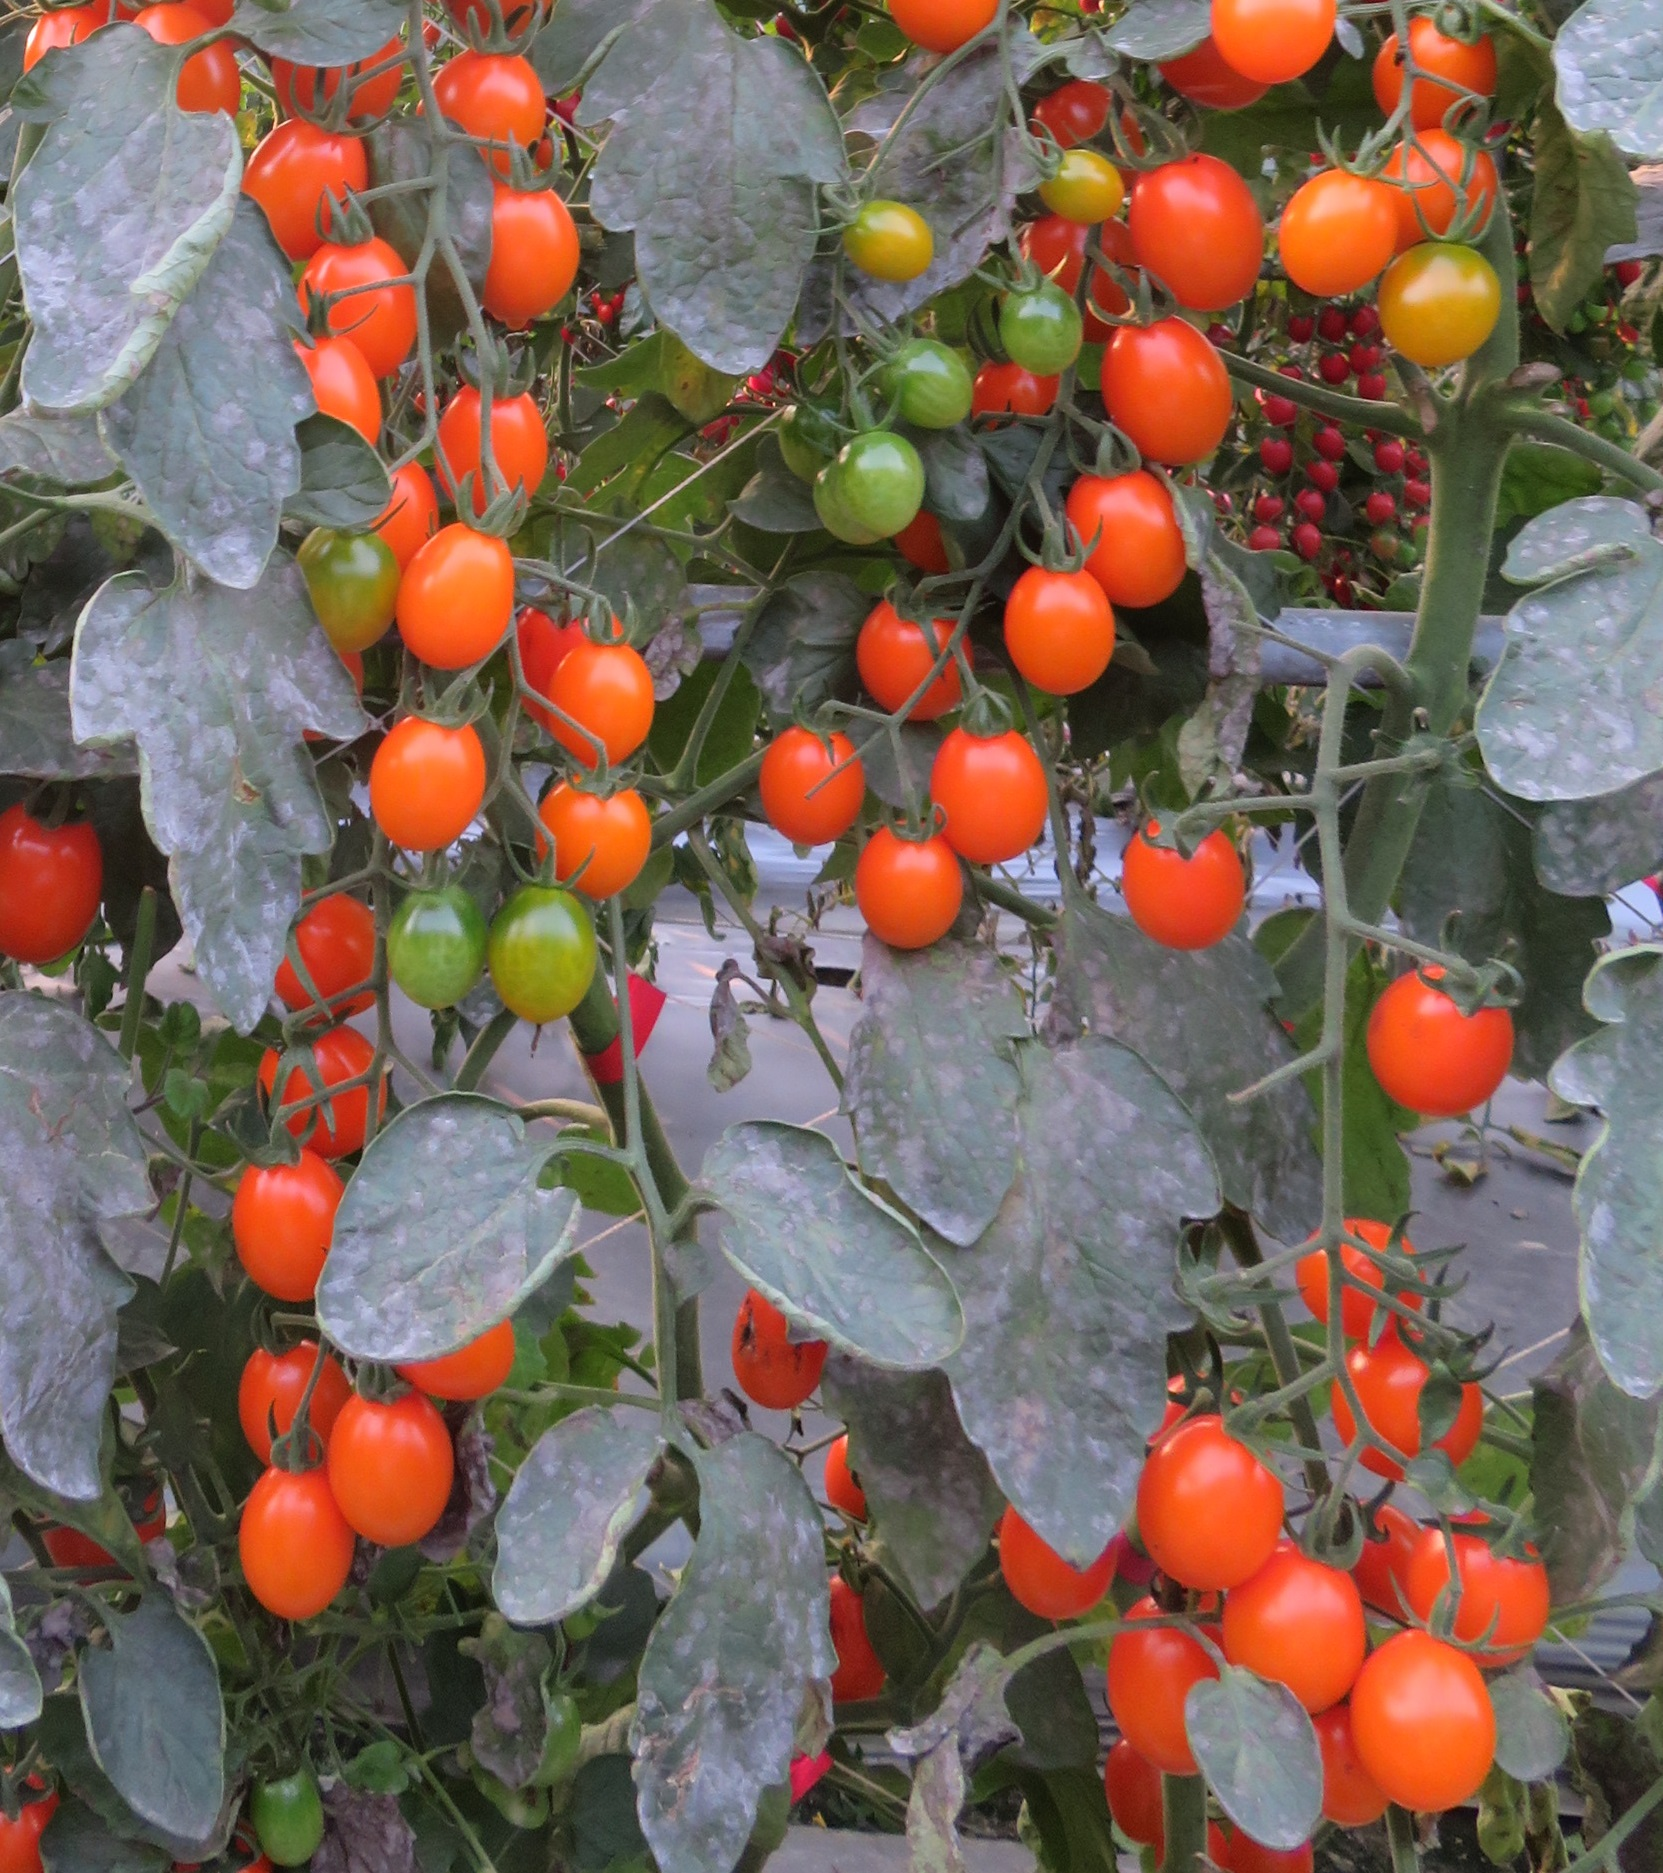green: (485, 880, 607, 1029), (299, 514, 400, 661), (393, 875, 483, 1014), (841, 425, 928, 538), (880, 343, 979, 437), (843, 201, 942, 287), (1003, 270, 1079, 376), (246, 1785, 332, 1862), (1047, 148, 1124, 220)
orange: (1344, 1618, 1498, 1822), (1133, 1412, 1289, 1597), (1361, 952, 1522, 1120), (1210, 1530, 1361, 1704), (318, 1388, 462, 1554), (1403, 1512, 1559, 1656), (1096, 1599, 1217, 1780), (234, 1443, 348, 1634), (1128, 144, 1254, 318), (2, 793, 111, 982), (1114, 811, 1255, 955), (1368, 239, 1515, 372), (228, 103, 364, 242), (368, 701, 493, 852), (1108, 318, 1231, 470), (929, 716, 1053, 867), (1275, 160, 1403, 299), (844, 819, 968, 960), (859, 592, 989, 725), (239, 1140, 339, 1311), (302, 221, 424, 361), (1074, 470, 1191, 611), (405, 520, 515, 669), (722, 1281, 836, 1420), (1002, 562, 1114, 701), (437, 43, 563, 165), (238, 1334, 348, 1472), (1364, 26, 1502, 136), (754, 717, 870, 849), (435, 387, 546, 523), (478, 188, 584, 327), (543, 640, 660, 764), (535, 774, 653, 889), (1212, 2, 1348, 83), (308, 307, 388, 437)
red: (992, 1486, 1120, 1626), (250, 1024, 385, 1152), (266, 894, 377, 1026)
